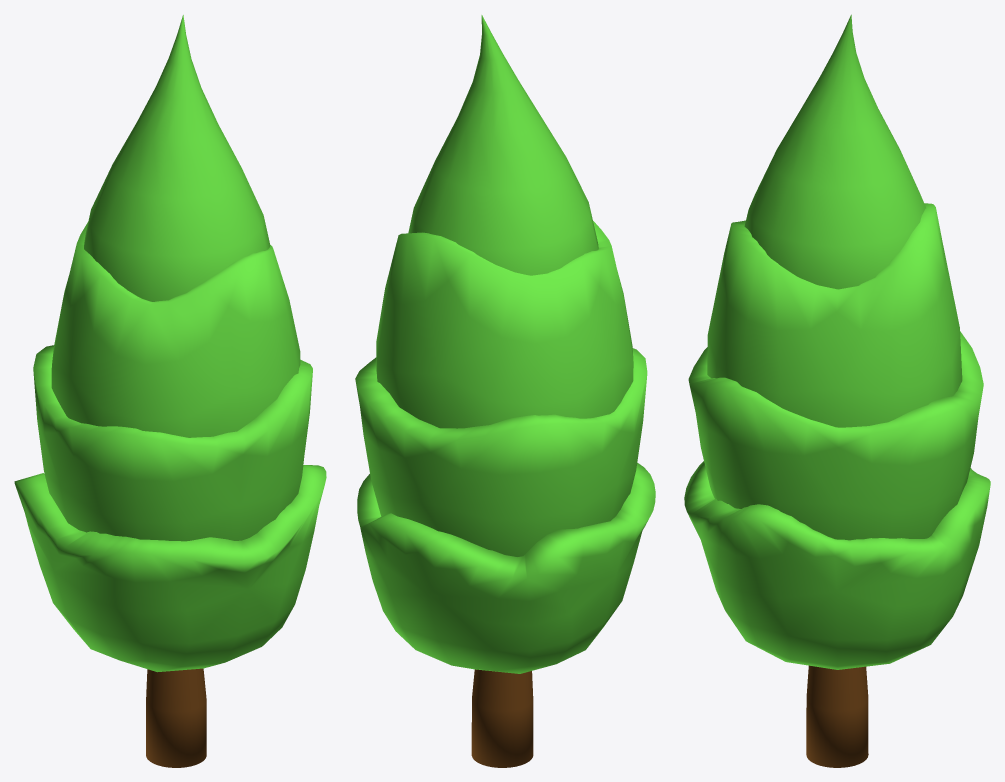
The model's file is tree2.glb.
The picture shows the model from 3 angles, left to right: view 1: azimuth 30°, elevation 25°; view 2: azimuth 150°, elevation 25°; view 3: azimuth 270°, elevation 25°; orthographic projection. The views are drawn at different scales.
Parts seen in each view (by area): view 1: tree2; view 2: tree2; view 3: tree2.
Boxes of the visible parts, <box> form: tree2: <box>14,15,326,767</box>; tree2: <box>355,15,655,767</box>; tree2: <box>684,14,990,767</box>.
Bounding box in the file's own units: 2.78 × 7.94 × 2.95.
